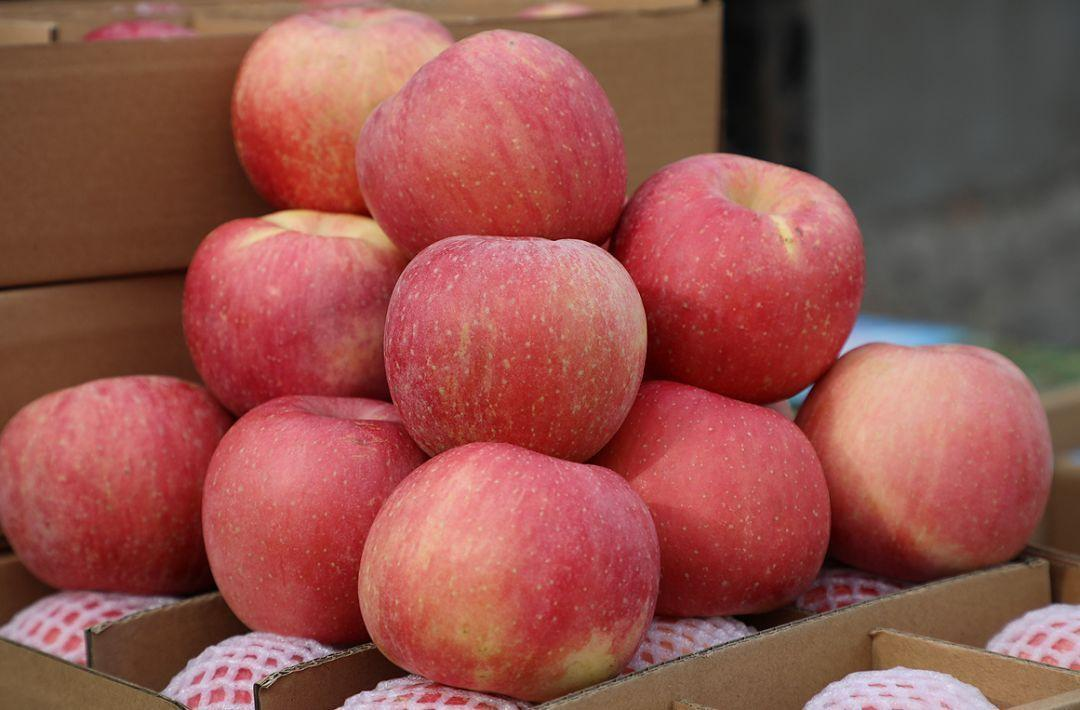apple: (356, 441, 663, 698), (634, 155, 884, 405), (827, 339, 1080, 583), (383, 232, 649, 460), (358, 29, 624, 248), (624, 384, 864, 619), (203, 393, 426, 643), (1, 374, 234, 597), (229, 4, 455, 215), (180, 207, 404, 411)
